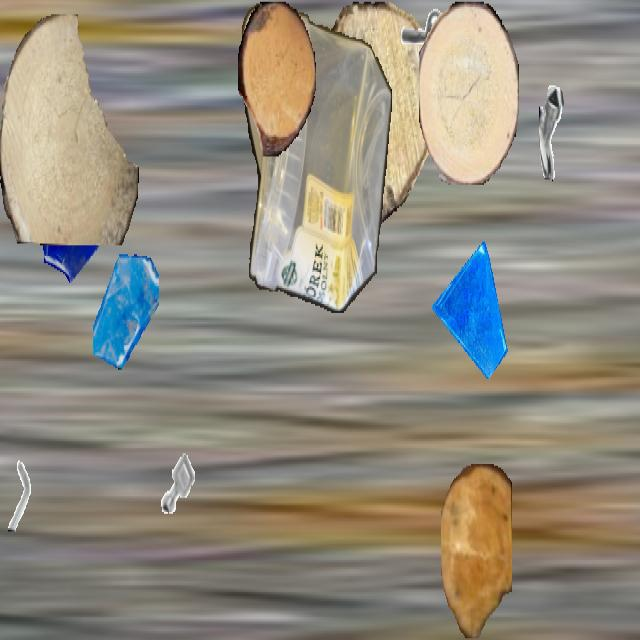glass: (32, 138, 114, 284), (432, 242, 508, 377), (93, 252, 159, 370)
metal: (386, 2, 448, 112), (539, 82, 595, 181), (153, 439, 203, 528), (0, 457, 40, 531)
plastic: (242, 2, 392, 311)
wood: (0, 14, 138, 246), (296, 2, 436, 226), (419, 2, 519, 183), (441, 464, 511, 638), (238, 1, 316, 154)
